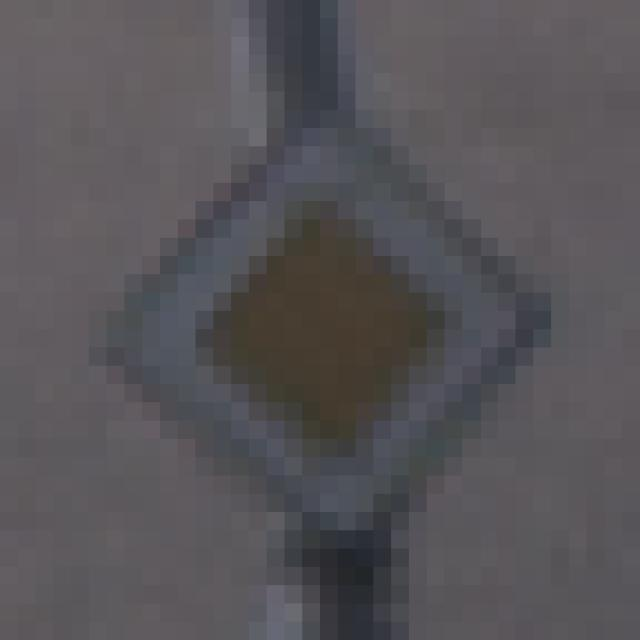Main Road: (90, 111, 552, 550)
